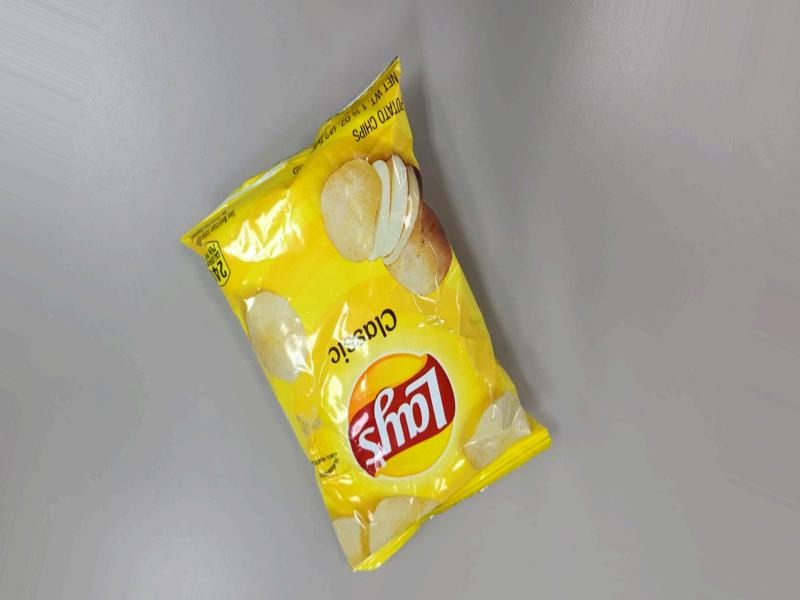lays: (167, 87, 567, 600)
